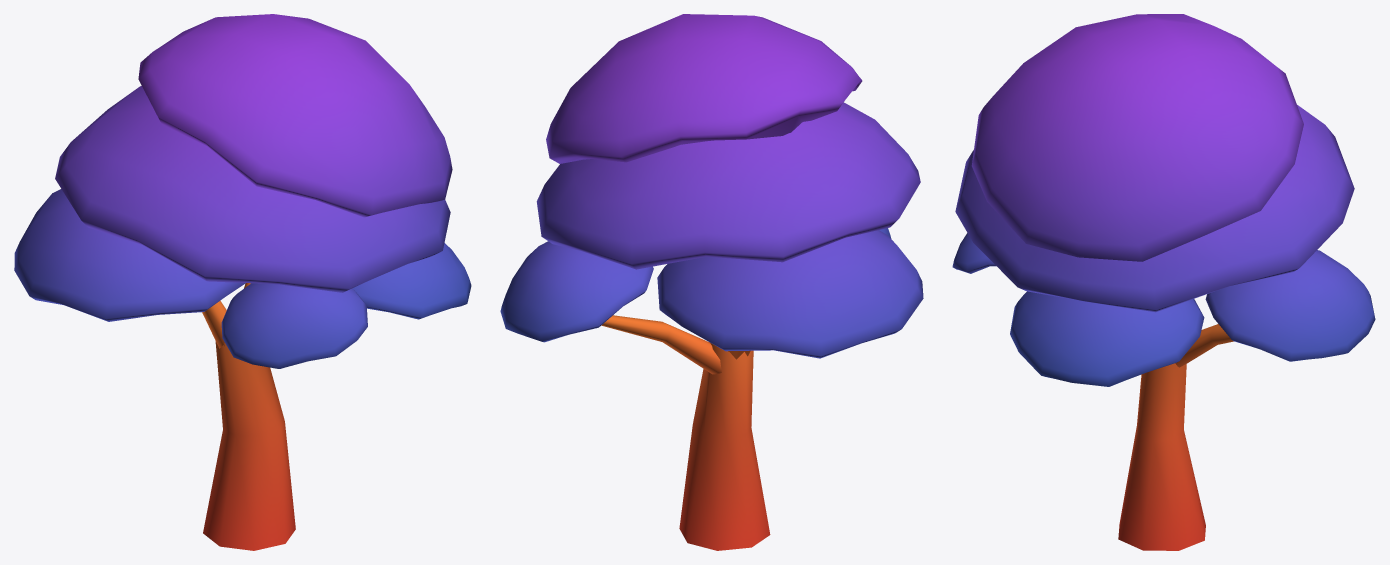
Rendered from Tree.fbx.
The picture shows the model from 3 angles, left to right: view 1: azimuth 30°, elevation 25°; view 2: azimuth 150°, elevation 25°; view 3: azimuth 270°, elevation 25°; orthographic projection.
Visible parts, largest first — view 1: Tree; view 2: Tree; view 3: Tree.
Part boxes in pixels (box(x1,y1,x2,y2)): Tree: box(14, 14, 471, 550); Tree: box(500, 14, 923, 550); Tree: box(952, 14, 1375, 550).
Size of the model in its own units: 1.58 by 1.99 by 1.51.
